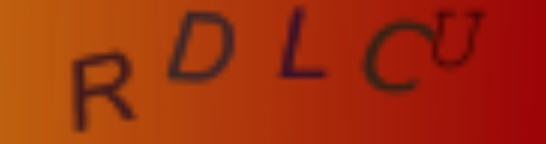C: (360, 19, 442, 98)
D: (162, 8, 241, 85)
L: (275, 3, 330, 81)
R: (64, 47, 138, 134)
U: (432, 5, 492, 73)
